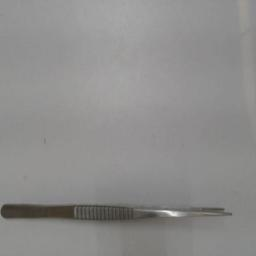DeBakey Dissector: (0, 194, 248, 234)
